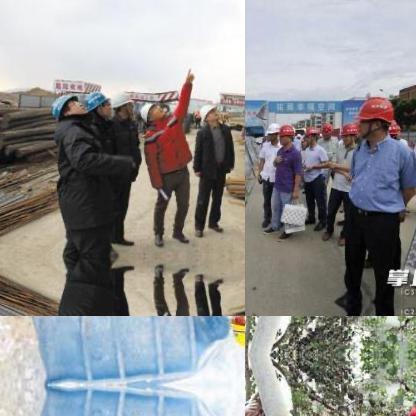Helmet: (354, 95, 392, 138), (48, 93, 86, 117), (106, 86, 132, 116), (82, 89, 110, 113), (226, 316, 244, 353), (196, 100, 218, 122), (138, 101, 164, 119), (338, 119, 356, 143), (384, 116, 398, 138), (302, 125, 318, 144), (277, 123, 291, 143), (264, 122, 278, 140), (319, 120, 333, 138)
